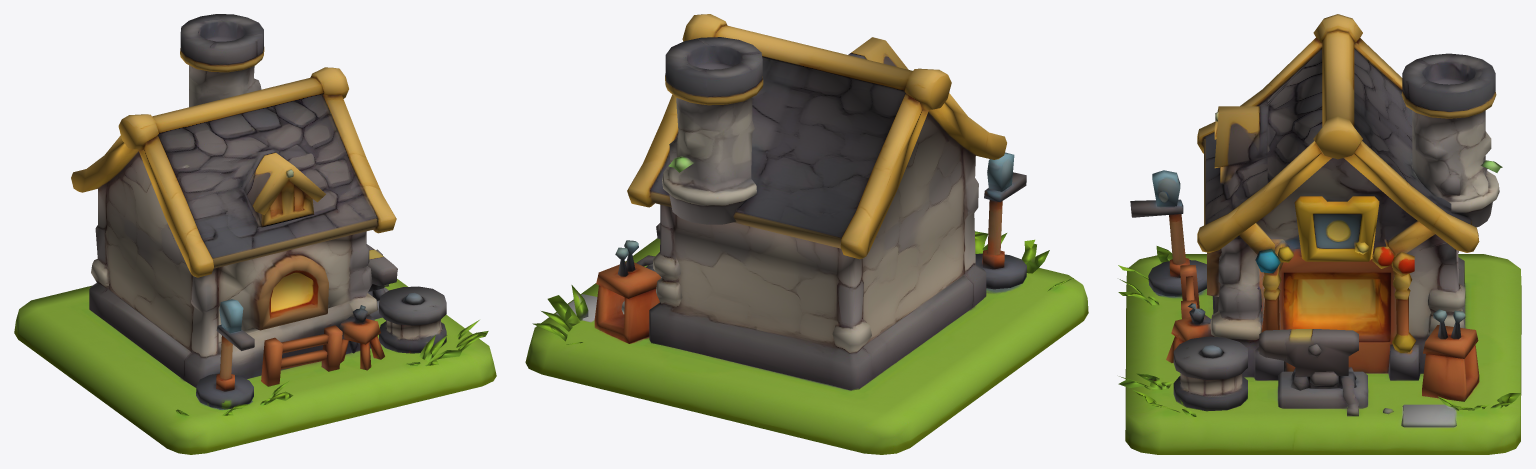
Rendered from herreria_3.glb.
The picture shows the model from 3 angles, left to right: view 1: azimuth 30°, elevation 25°; view 2: azimuth 150°, elevation 25°; view 3: azimuth 270°, elevation 25°; orthographic projection. The views are drawn at different scales.
Visible parts, largest first — view 1: tripo_node_d11234d6-38f0-41b6-a792-e90c0787f721; view 2: tripo_node_d11234d6-38f0-41b6-a792-e90c0787f721; view 3: tripo_node_d11234d6-38f0-41b6-a792-e90c0787f721.
Boxes of the visible parts, box(x1,y1,x2,y2) form: tripo_node_d11234d6-38f0-41b6-a792-e90c0787f721: box(14, 14, 496, 454); tripo_node_d11234d6-38f0-41b6-a792-e90c0787f721: box(525, 14, 1088, 454); tripo_node_d11234d6-38f0-41b6-a792-e90c0787f721: box(1118, 14, 1521, 454).
Size of the model in its own units: 0.998 by 0.8066 by 0.9668.
1 material, 1 textured.
